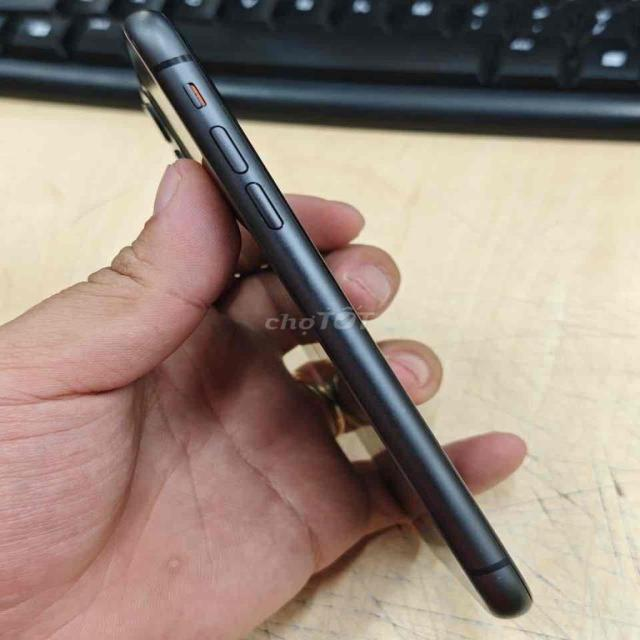gen_11: (113, 3, 540, 626)
